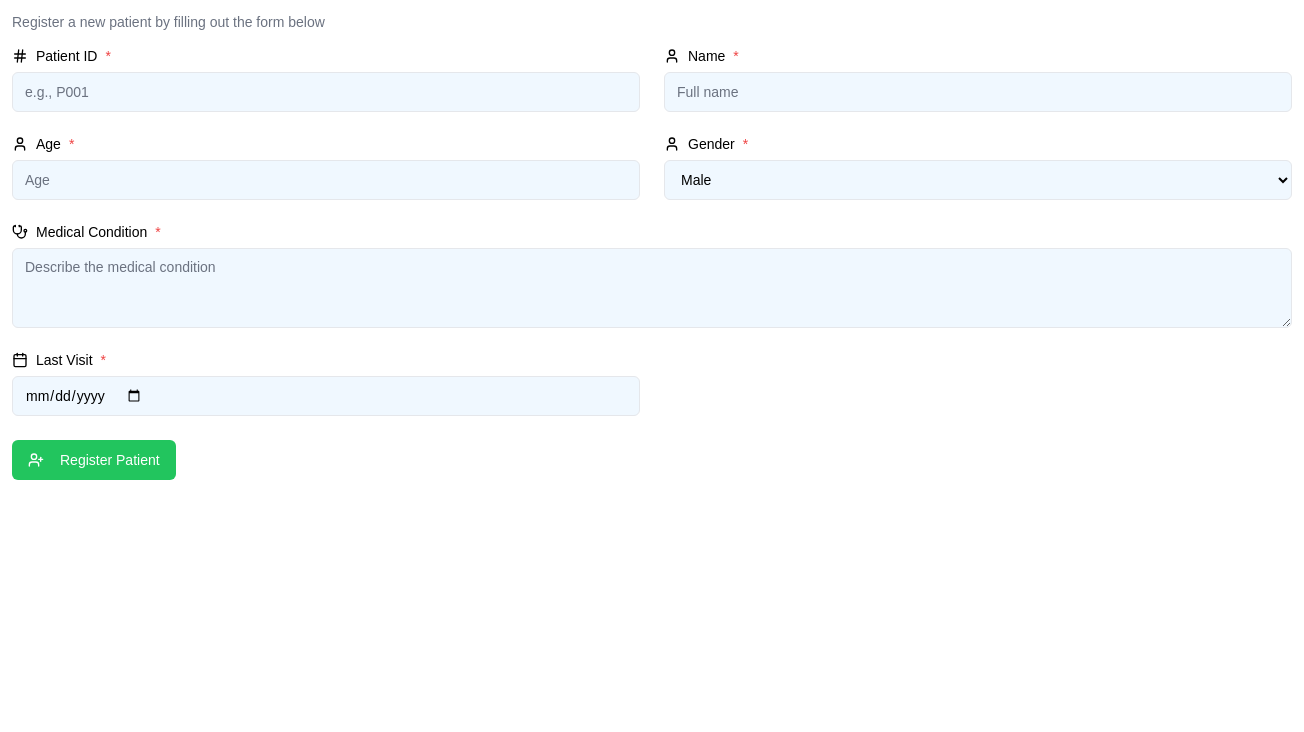
Test case: Patient Registration Integration › should display validation errors for invalid input
The width and height of the screenshot is (1304, 732).
Try to submit empty form
Click the button "Register Patient". click: (94, 460)
box: [12,440,176,480]
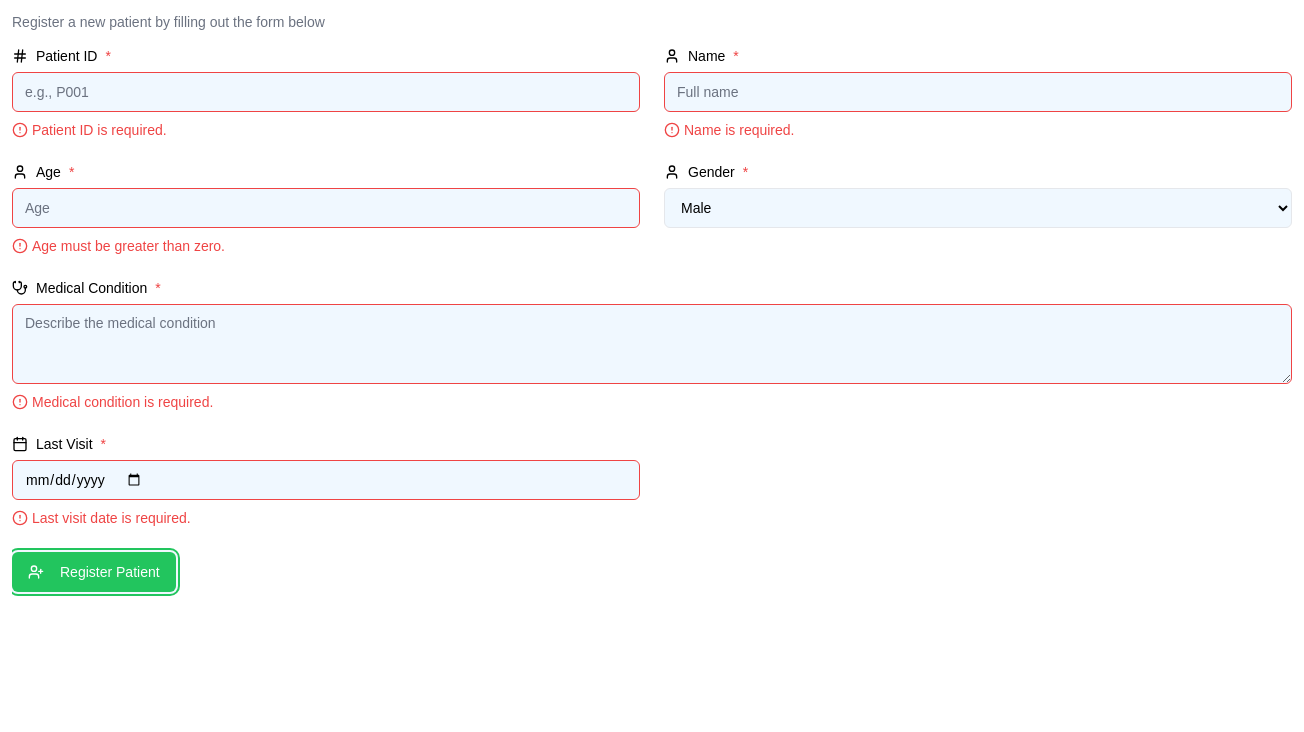
Now the text "Patient ID is required." is shown, box [12,122,167,138]
Now the text "Name is required." is shown, box [664,122,794,138]
